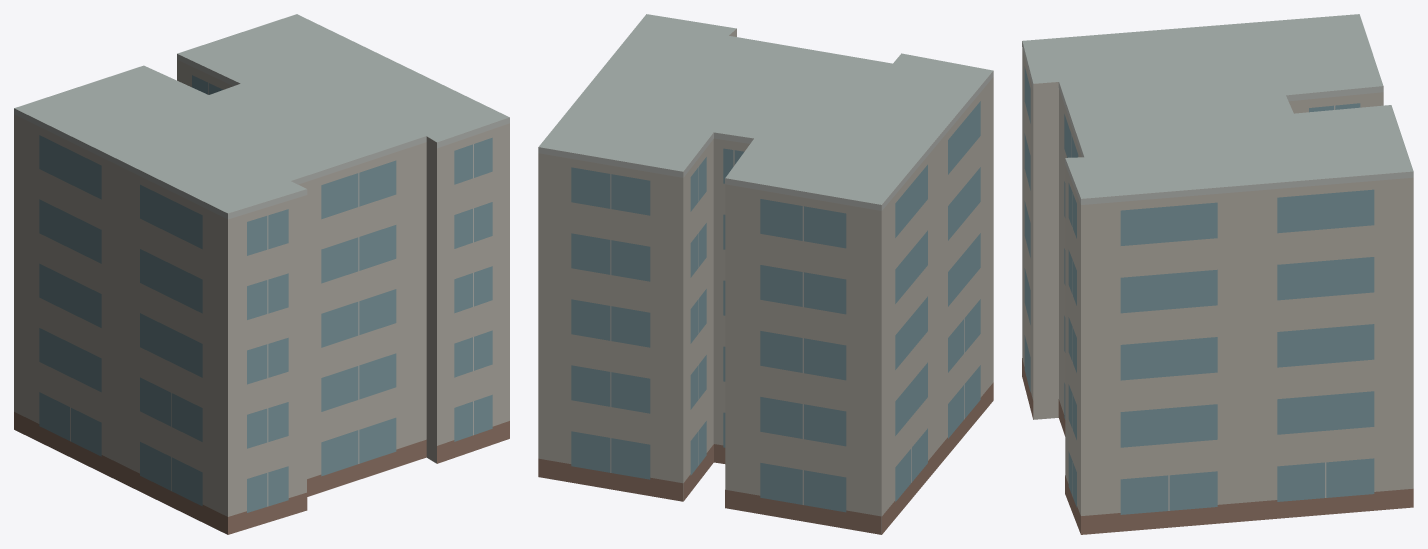
Rendered from survey-upis-32900338.glb.
The picture shows the model from 3 angles, left to right: view 1: azimuth 30°, elevation 25°; view 2: azimuth 150°, elevation 25°; view 3: azimuth 270°, elevation 25°; orthographic projection. The views are drawn at different scales.
Parts seen in each view (by area): view 1: survey-upis-32900338.tmp; view 2: survey-upis-32900338.tmp; view 3: survey-upis-32900338.tmp.
Boxes of the visible parts, <box> form: survey-upis-32900338.tmp: <box>14,14,509,534</box>; survey-upis-32900338.tmp: <box>538,14,993,534</box>; survey-upis-32900338.tmp: <box>1022,14,1413,534</box>.
Size of the model in its own units: 15.59 by 13.2 by 13.95.
